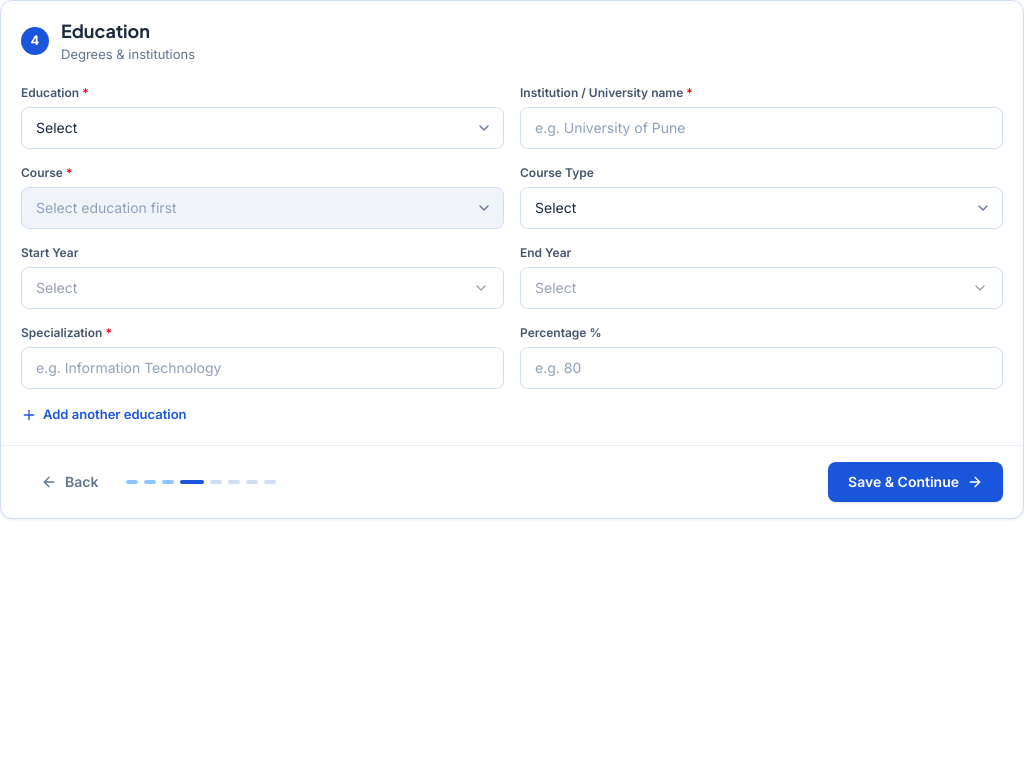
Scenario: EducationStep › requires the fields the form marks with an asterisk
The image size is (1024, 768).
Select "B.Tech" in the dropdown labelled "Education *" at [262, 128], box [21,106,504,148]
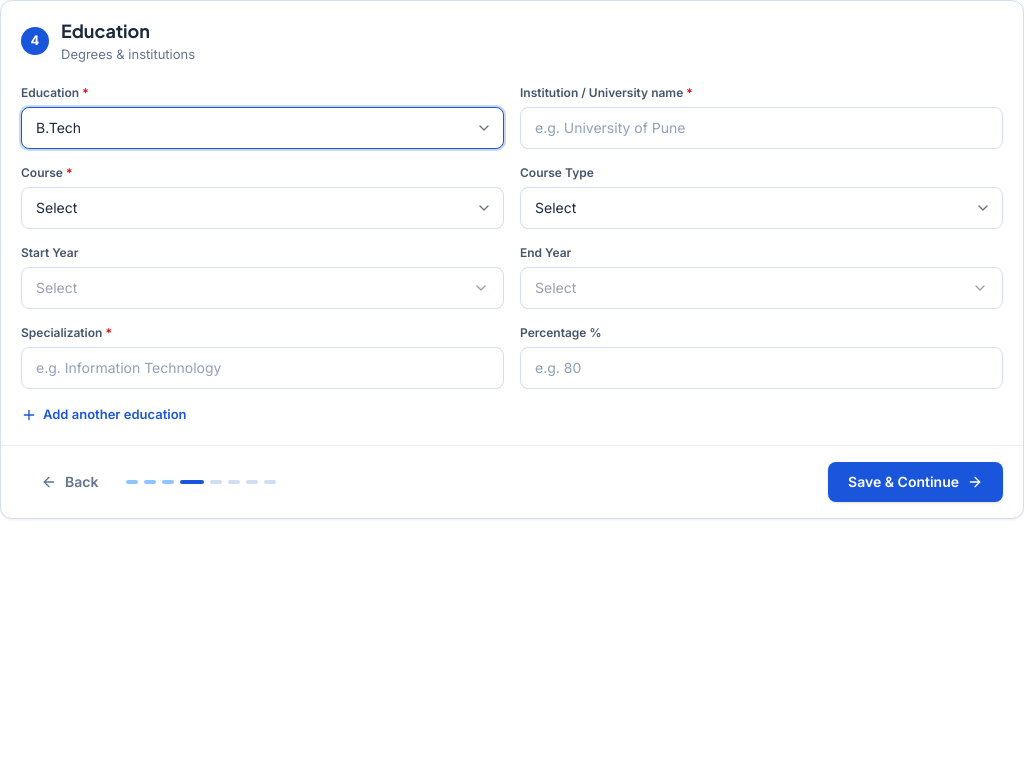
Click the button "Save & Continue" at [916, 482], box [828,462,1003,502]
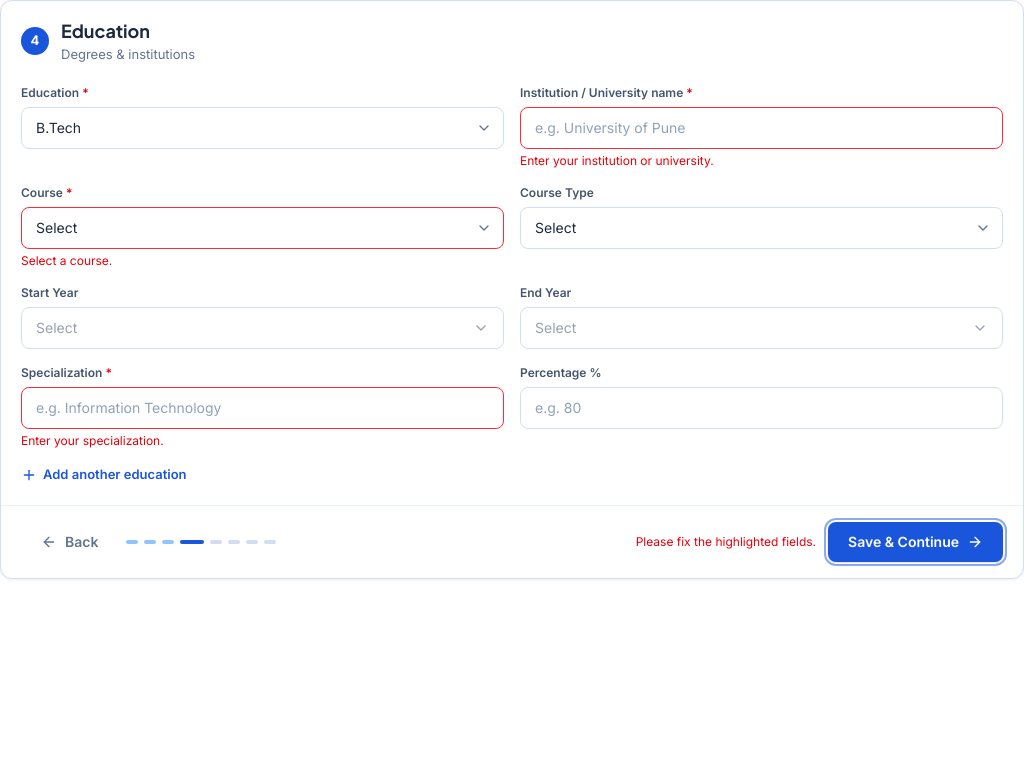
Check: the text "Enter your institution or university." is shown, box [520,152,714,168]
Check: the text "Select a course." is shown, box [21,252,112,268]
Check: the text "Enter your specialization." is shown, box [21,432,164,448]
